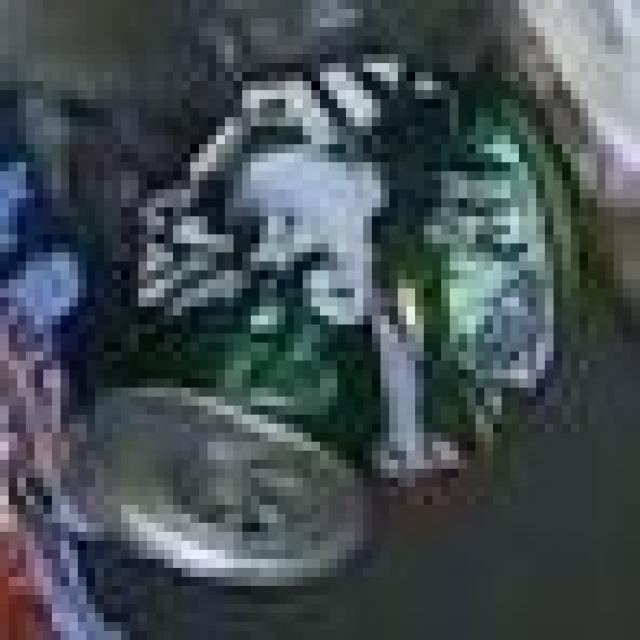can: (49, 17, 623, 626)
